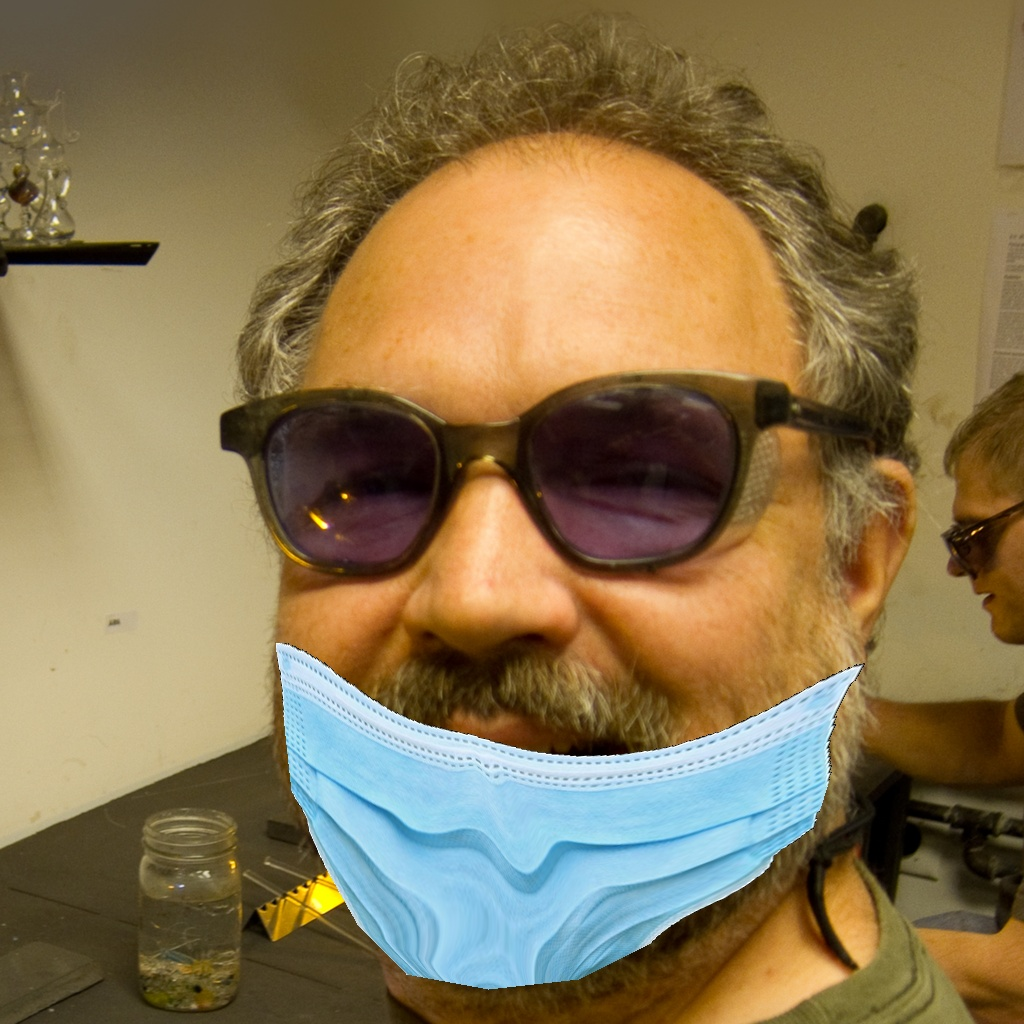mask_weared_incorrect: (227, 367, 884, 999)
